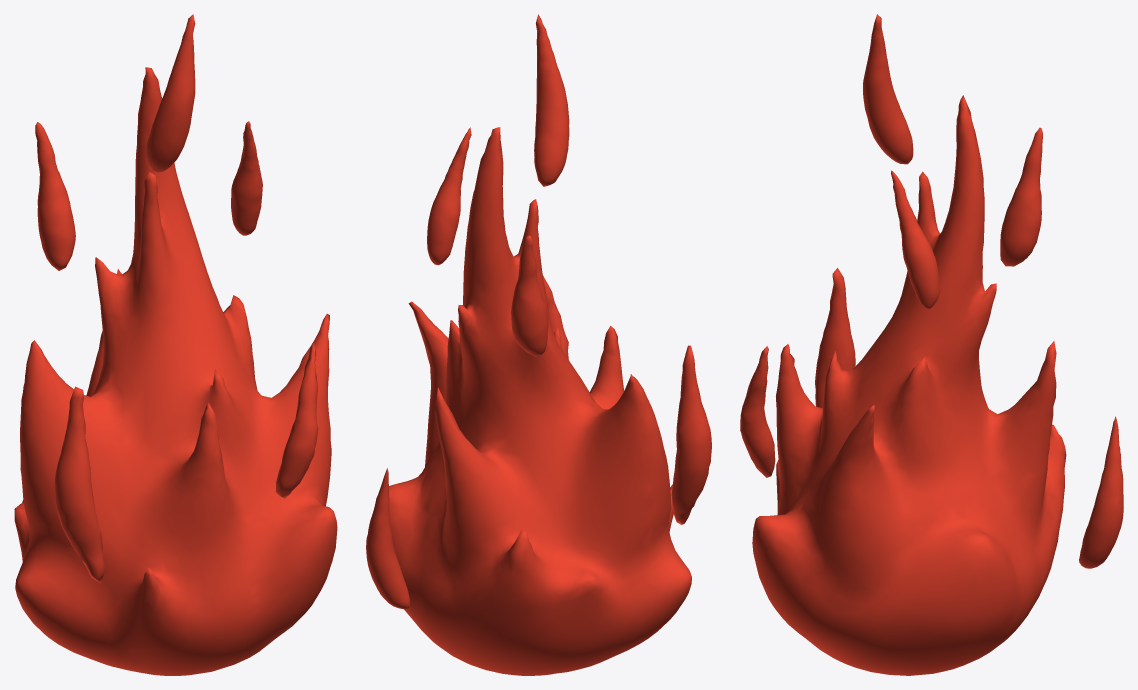
The model's file is orangefire.fbx.
3 views of the same model, side by side, from view 1: azimuth 30°, elevation 25°; view 2: azimuth 150°, elevation 25°; view 3: azimuth 270°, elevation 25° (orthographic). The views are drawn at different scales.
Parts seen in each view (by area): view 1: fire big_8, Sphere.004_6, Sphere.003_5, Sphere.001_3, Sphere_2, Sphere.002_4; view 2: fire big_8, Sphere.004_6, Sphere.003_5, Sphere.005_7, Sphere.001_3, Sphere.002_4, Sphere_2; view 3: fire big_8, Sphere.003_5, Sphere.001_3, Sphere.005_7, Sphere.002_4, Sphere.004_6, Sphere_2.
Boxes of the visible parts, x1=… form: fire big_8: x1=14, y1=67, x2=337, y2=675; Sphere.004_6: x1=54, y1=386, x2=104, y2=583; Sphere.003_5: x1=146, y1=14, x2=195, y2=172; Sphere.001_3: x1=35, y1=122, x2=75, y2=270; Sphere_2: x1=275, y1=343, x2=318, y2=498; Sphere.002_4: x1=231, y1=121, x2=262, y2=235; fire big_8: x1=389, y1=127, x2=691, y2=675; Sphere.004_6: x1=671, y1=345, x2=711, y2=524; Sphere.003_5: x1=534, y1=14, x2=569, y2=186; Sphere.005_7: x1=366, y1=468, x2=409, y2=609; Sphere.001_3: x1=511, y1=235, x2=548, y2=356; Sphere.002_4: x1=427, y1=127, x2=471, y2=265; Sphere_2: x1=542, y1=275, x2=568, y2=359; fire big_8: x1=752, y1=95, x2=1066, y2=675; Sphere.003_5: x1=863, y1=14, x2=913, y2=164; Sphere.001_3: x1=1000, y1=127, x2=1042, y2=266; Sphere.005_7: x1=1079, y1=416, x2=1123, y2=568; Sphere.002_4: x1=891, y1=170, x2=939, y2=309; Sphere.004_6: x1=815, y1=268, x2=855, y2=408; Sphere_2: x1=740, y1=346, x2=775, y2=477.
Size of the model in its own units: 354 by 737 by 395.
